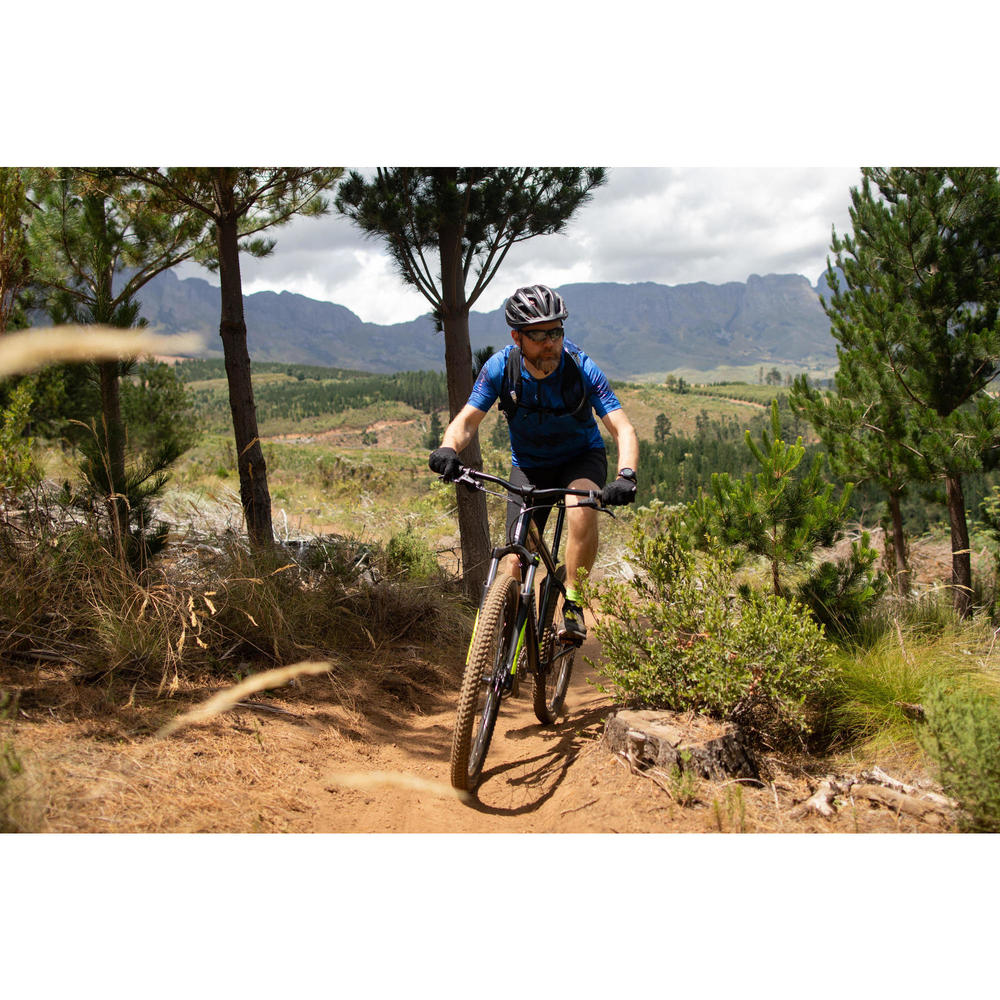MountainBike: (440, 421, 638, 829)
